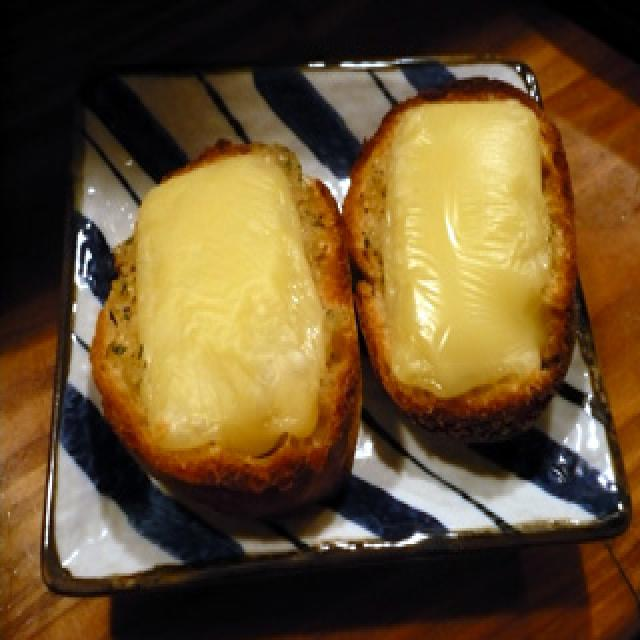面包点心: (64, 112, 580, 501)
